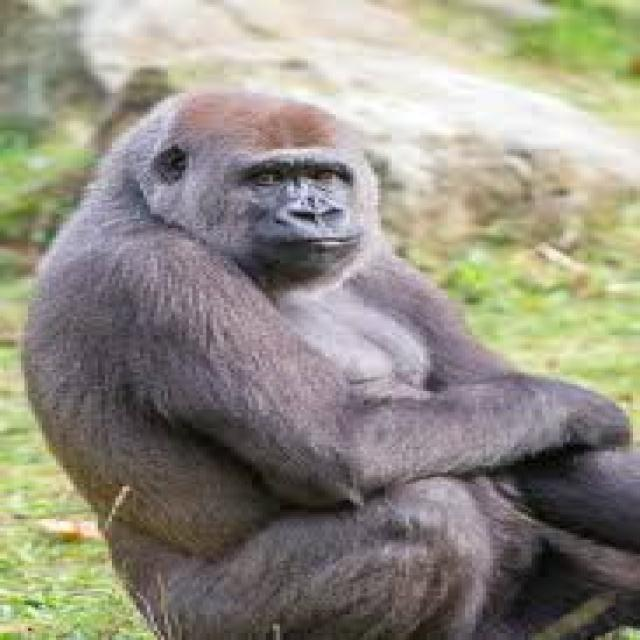Gorilla: (28, 86, 640, 640)
